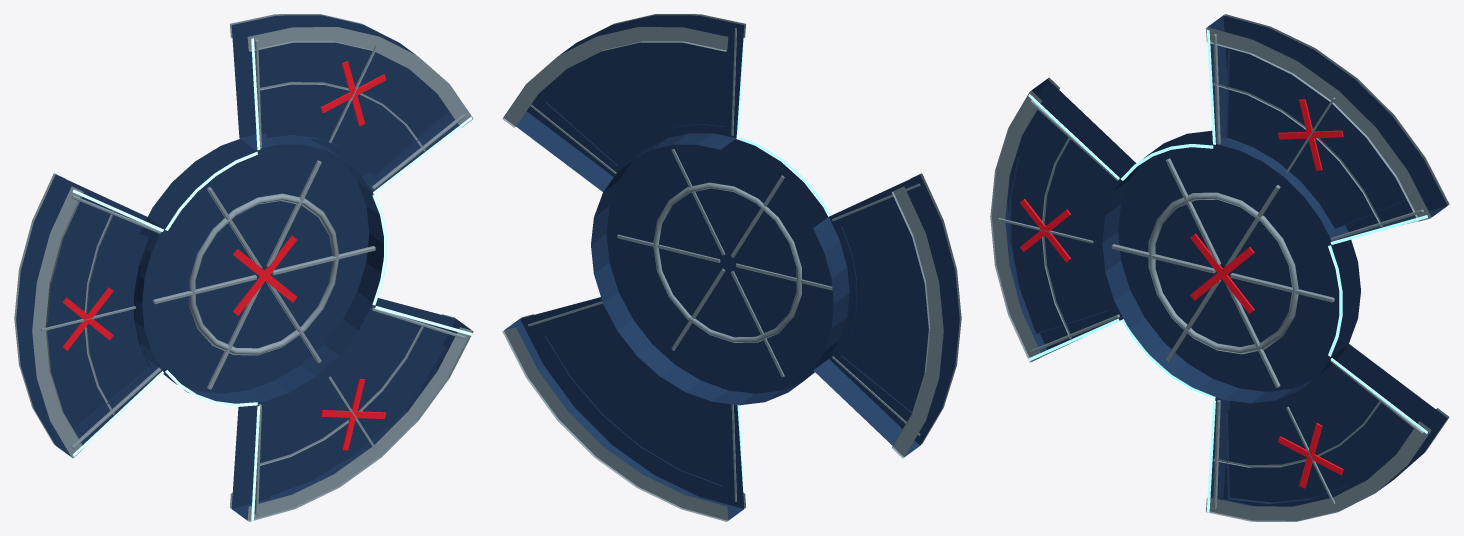
Rendered from foundry-panel-fun10-low.glb.
3 views of the same model, side by side, from view 1: azimuth 30°, elevation 25°; view 2: azimuth 150°, elevation 25°; view 3: azimuth 330°, elevation 25° (orthographic).
Parts seen in each view (by area): view 1: RENDER_PANEL_SHELL, RENDER_PANEL_FRAME, RENDER_PANEL_HAZARD, RENDER_PANEL_SIGNAL; view 2: RENDER_PANEL_SHELL, RENDER_PANEL_FRAME, RENDER_PANEL_SIGNAL; view 3: RENDER_PANEL_SHELL, RENDER_PANEL_FRAME, RENDER_PANEL_HAZARD, RENDER_PANEL_SIGNAL.
Boxes of the visible parts, <box> form: RENDER_PANEL_SHELL: <box>16,15,470,520</box>; RENDER_PANEL_FRAME: <box>14,14,473,521</box>; RENDER_PANEL_HAZARD: <box>62,61,386,450</box>; RENDER_PANEL_SIGNAL: <box>72,38,472,520</box>; RENDER_PANEL_SHELL: <box>505,15,959,520</box>; RENDER_PANEL_FRAME: <box>502,14,961,521</box>; RENDER_PANEL_SIGNAL: <box>561,38,855,493</box>; RENDER_PANEL_SHELL: <box>1005,15,1447,506</box>; RENDER_PANEL_FRAME: <box>990,14,1449,521</box>; RENDER_PANEL_HAZARD: <box>1020,99,1343,488</box>; RENDER_PANEL_SIGNAL: <box>1028,30,1427,512</box>.
Size of what is drawn, in the model's own units: 38.92 by 40.91 by 3.09.
